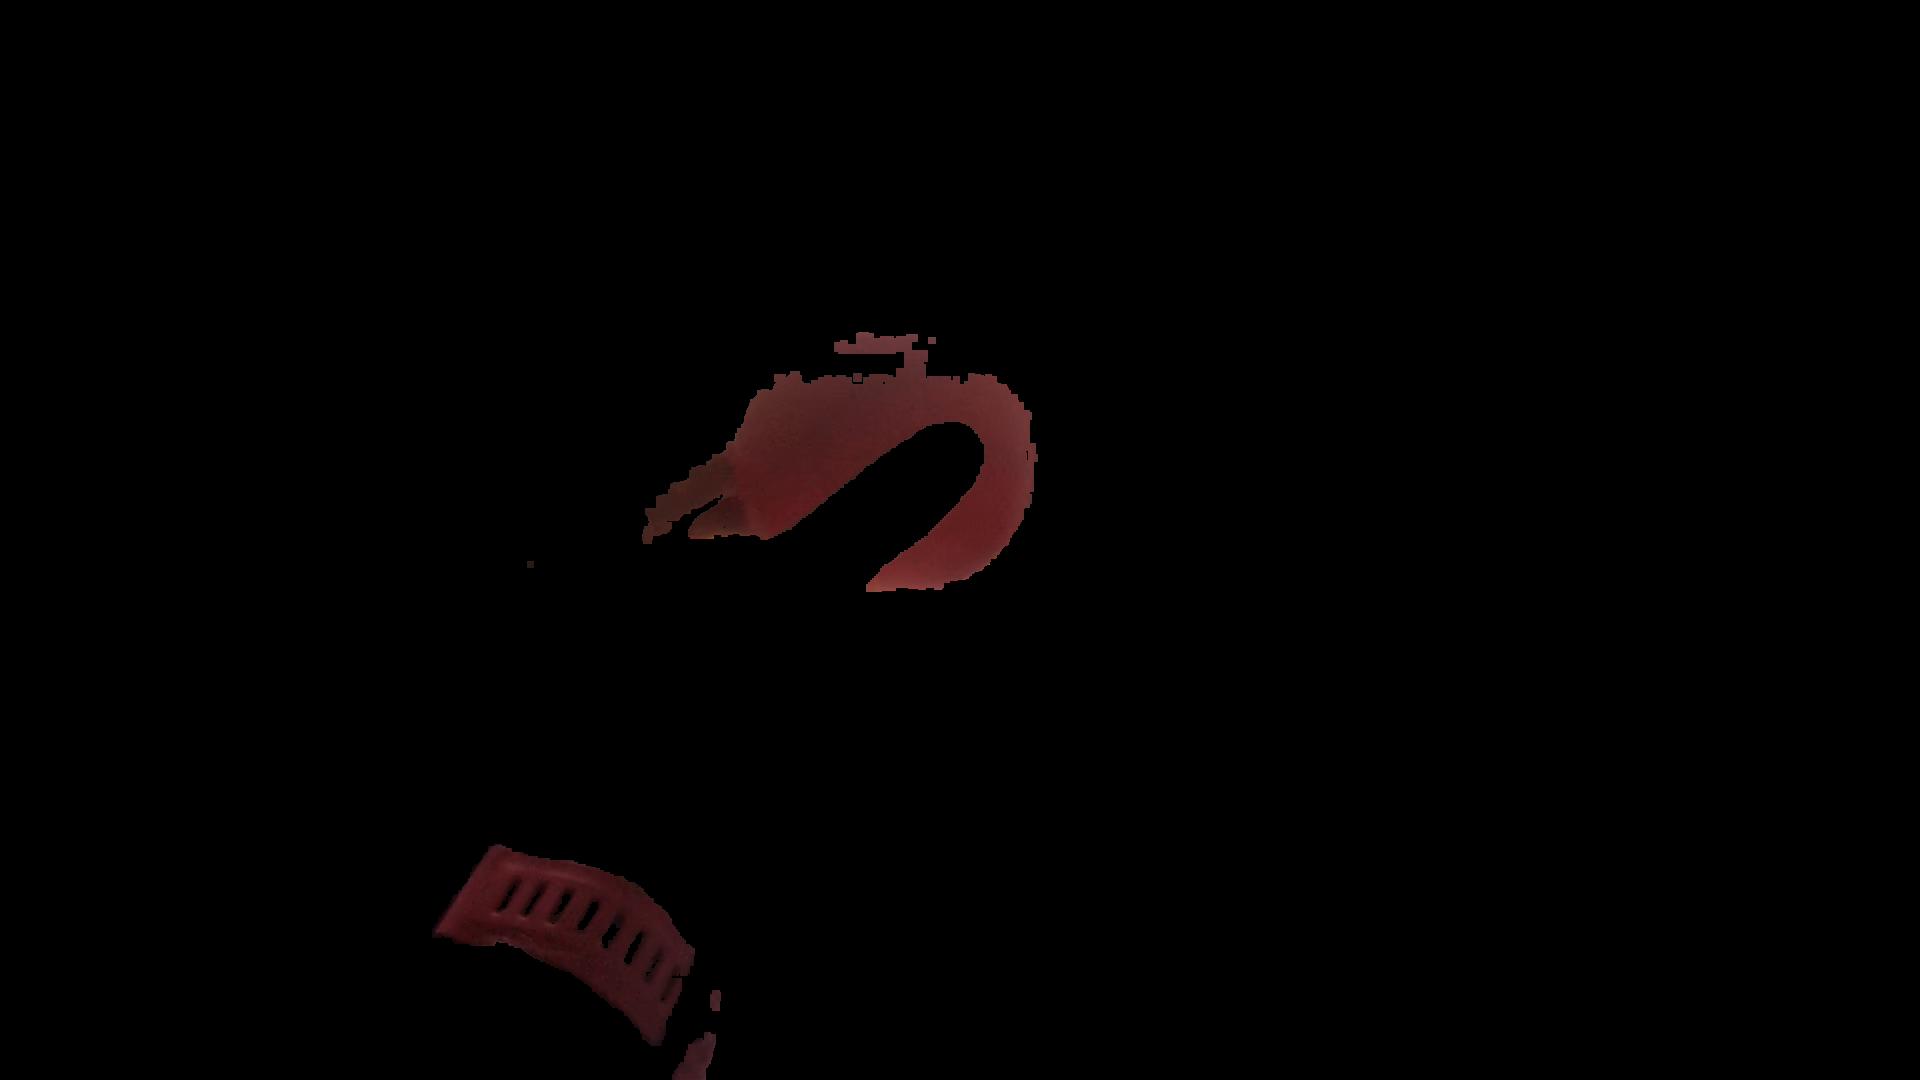Ball: (735, 305, 1044, 607)
